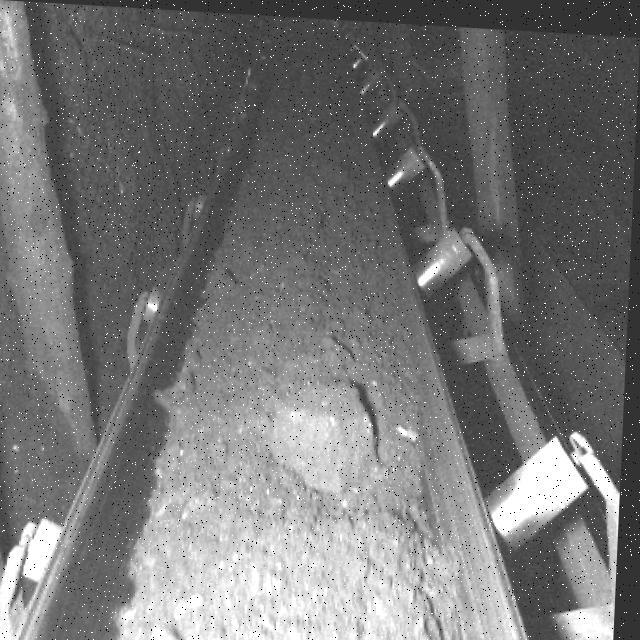large_sized_coal: (276, 380, 386, 490)
